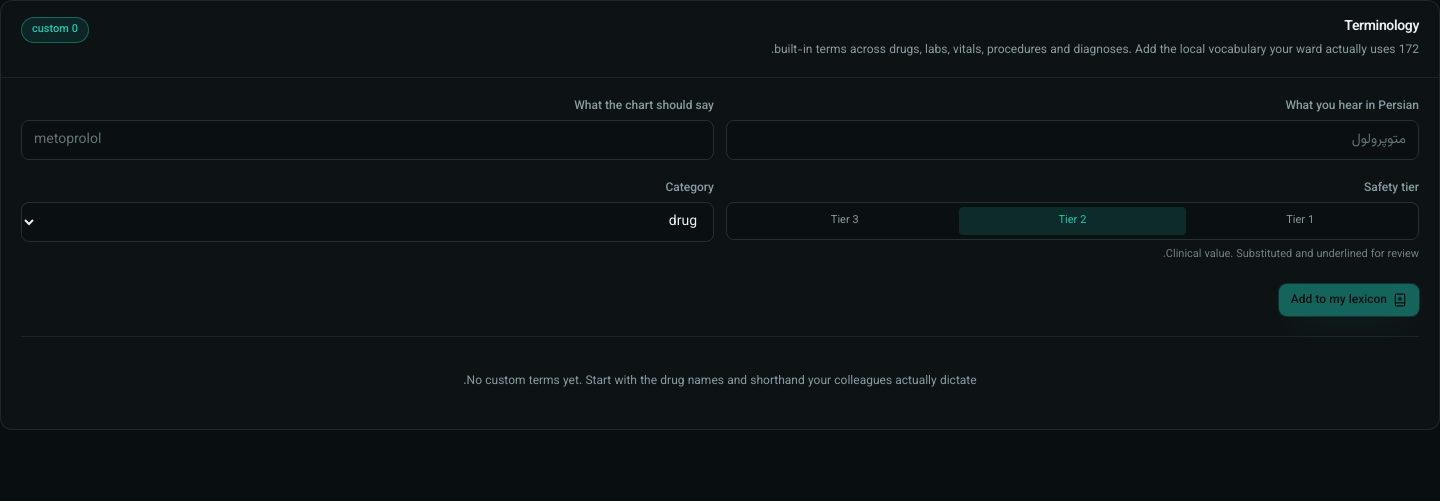
it: lexicon manager › surfaces a backend failure instead of silently dropping the term
In the field labelled "What you hear in Persian": x=1072, y=140 [726,120,1419,160], type "فلان"
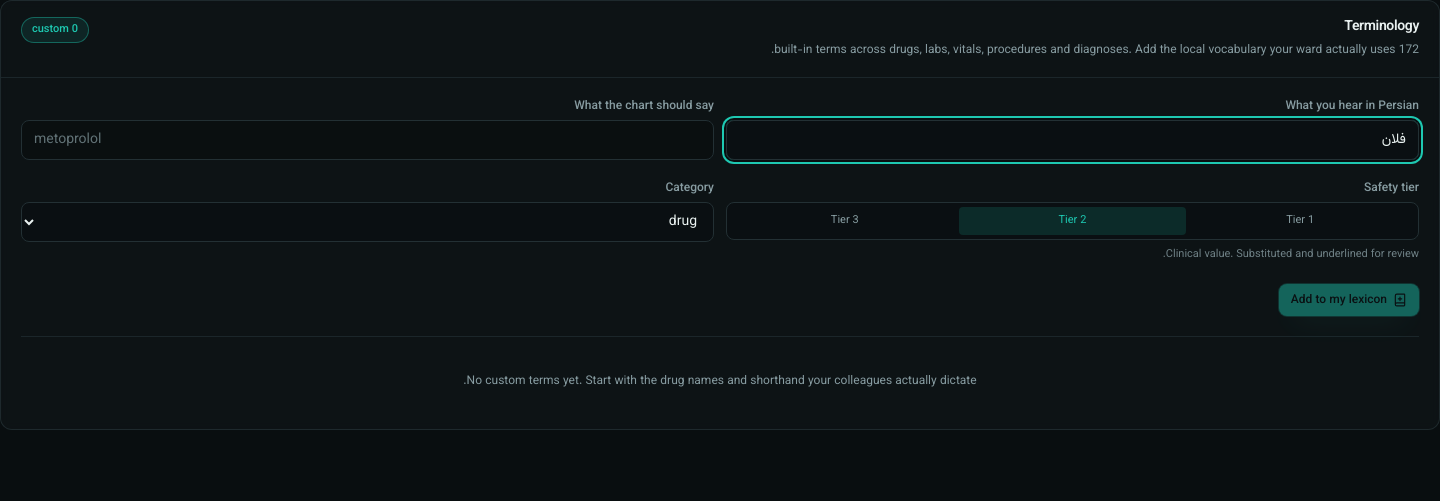
In the field labelled "What the chart should say": x=368, y=140 [21,120,714,160], type "Flan"
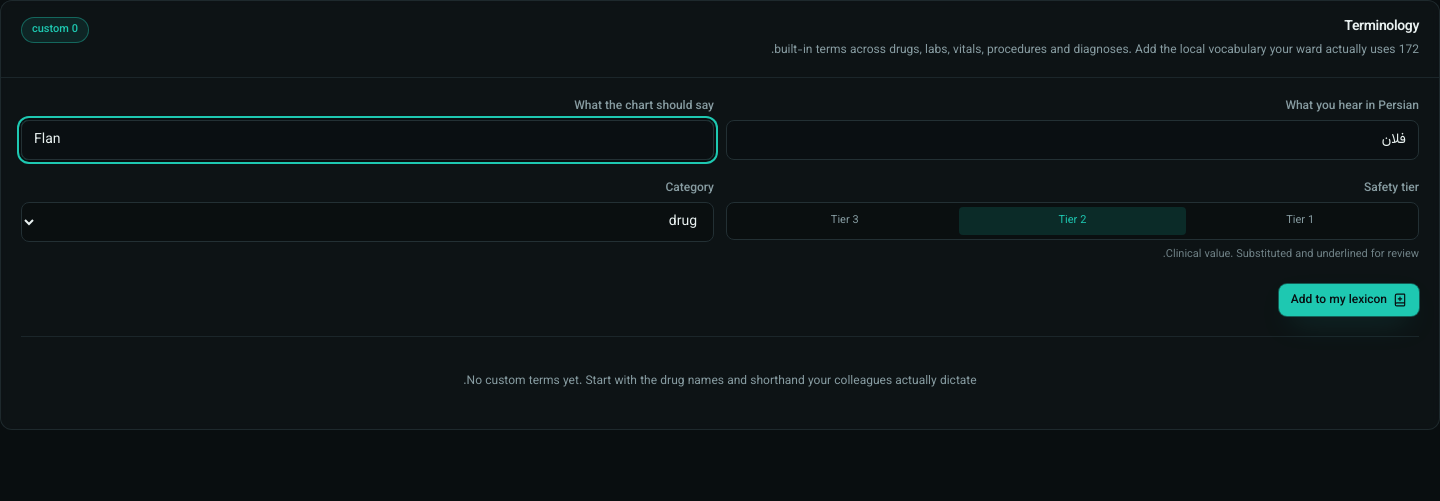
Click the button "Add to my lexicon": x=1349, y=300 [1279,284,1419,316]
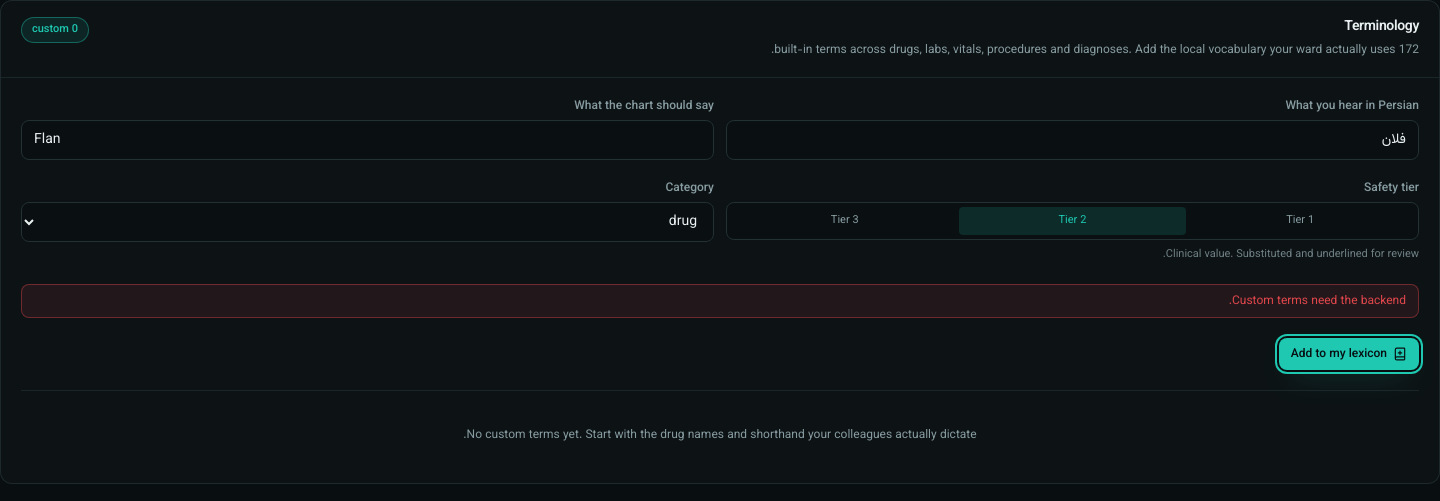
expect the message reads "Custom terms need the backend.": met, box [1229,292,1406,310]
